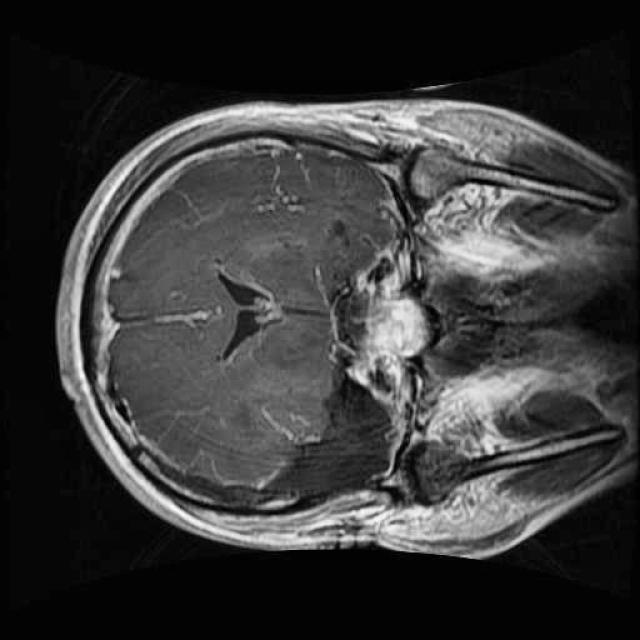Non-Tumor: (143, 342, 428, 552)
